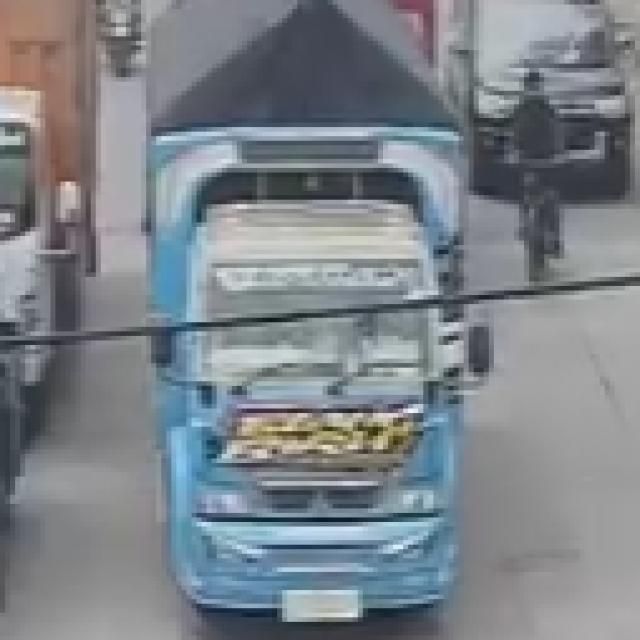truck: (141, 0, 499, 631)
